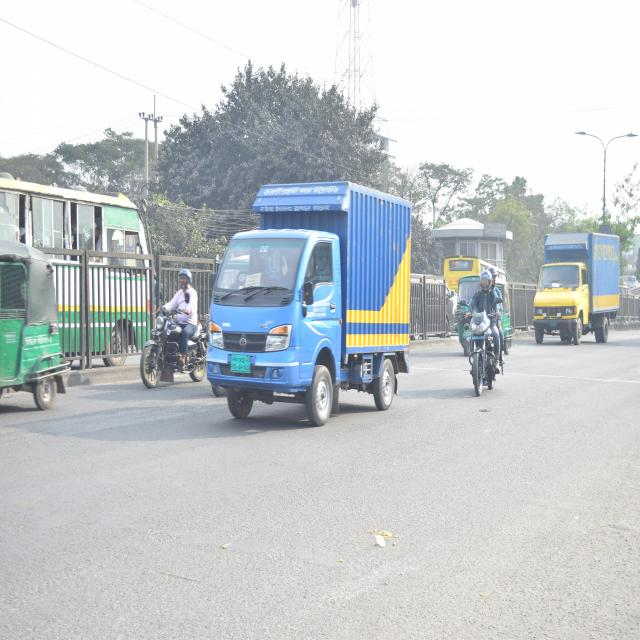motorbike: (132, 286, 202, 406), (457, 293, 506, 415)
pickup-van: (200, 170, 418, 437), (530, 220, 628, 350)
